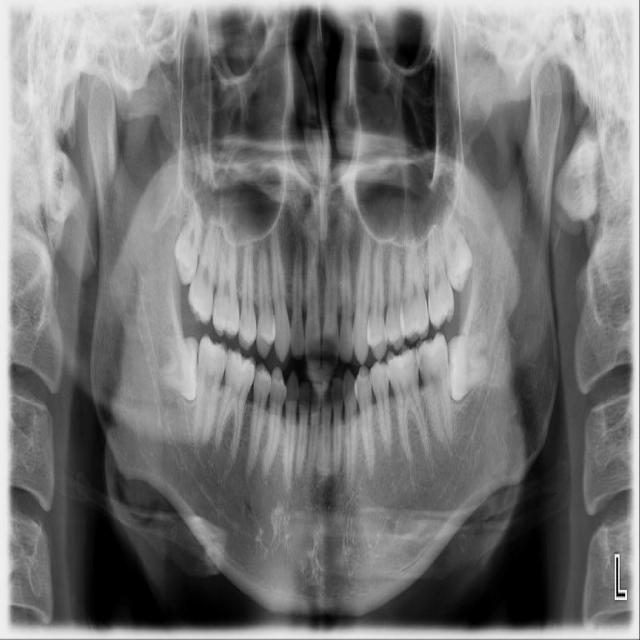impacted tooth: (448, 333, 491, 400), (152, 337, 196, 400), (442, 202, 471, 290), (175, 199, 200, 279)
